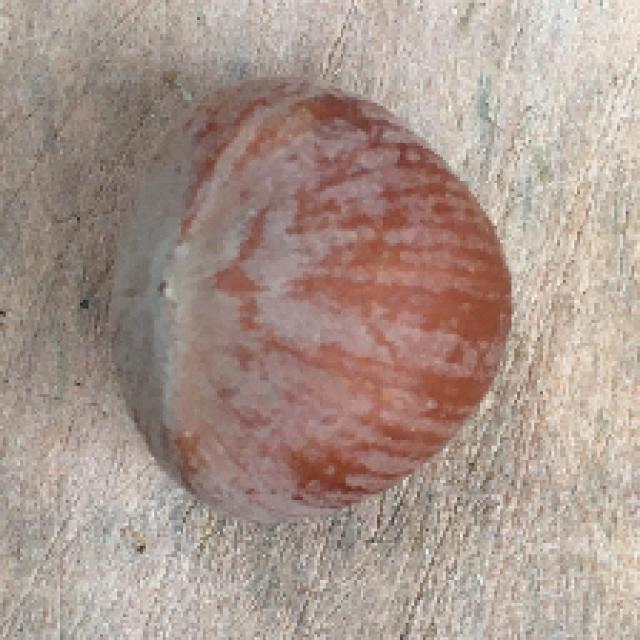QualityHazelnut: (112, 79, 515, 529)
